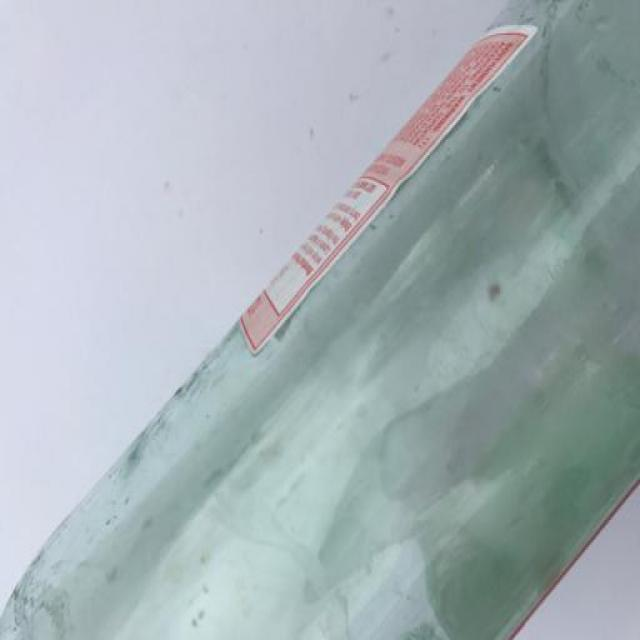Waste: (0, 2, 640, 640)
